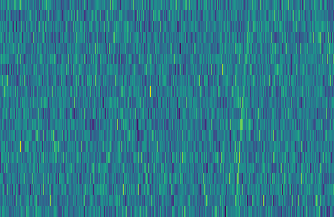signal: (232, 0, 256, 217)
